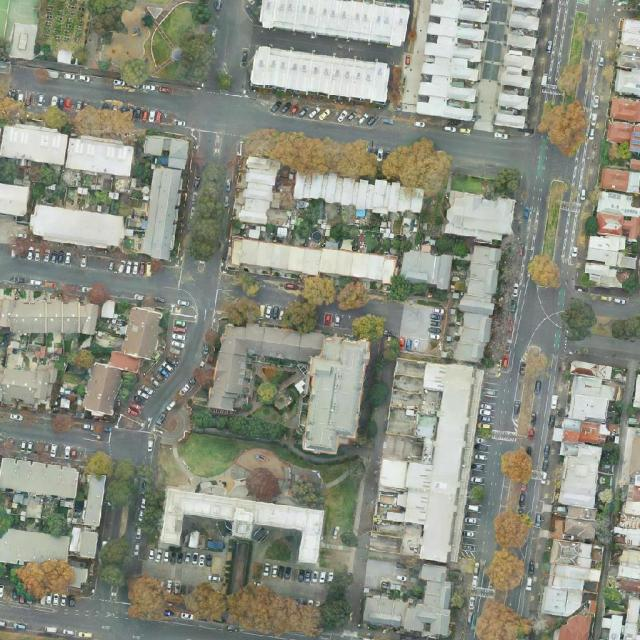building: (368, 355, 485, 565), (203, 316, 373, 460), (159, 486, 326, 566), (546, 373, 617, 541), (0, 457, 106, 567), (415, 0, 490, 123), (600, 427, 640, 639), (249, 44, 392, 103), (229, 236, 397, 285), (0, 121, 136, 180), (259, 0, 411, 48), (135, 135, 190, 261), (539, 526, 608, 623), (292, 169, 424, 218), (451, 243, 503, 365), (494, 0, 542, 130), (0, 288, 116, 341), (27, 204, 127, 250), (109, 302, 169, 377), (443, 191, 515, 245), (237, 155, 281, 228), (396, 299, 447, 357), (79, 361, 125, 421), (400, 248, 454, 290), (0, 184, 30, 216)
greenland: (242, 109, 455, 198), (125, 571, 323, 640), (81, 439, 151, 514), (529, 87, 601, 159), (184, 160, 233, 263), (481, 506, 534, 600), (354, 353, 397, 449), (220, 294, 317, 333), (189, 408, 290, 443), (10, 554, 78, 603), (561, 299, 640, 340), (300, 274, 372, 313), (176, 27, 216, 84), (73, 104, 135, 140), (460, 168, 521, 198), (100, 538, 130, 599), (136, 481, 166, 541), (321, 572, 352, 629), (37, 103, 78, 137), (553, 58, 587, 99), (0, 96, 38, 128), (351, 312, 387, 341), (502, 450, 531, 484), (119, 57, 148, 87), (252, 379, 280, 408), (68, 347, 96, 371), (604, 141, 632, 161), (192, 2, 212, 24)
metalled_road: (444, 139, 607, 597), (3, 64, 536, 203), (101, 347, 200, 475), (166, 272, 215, 368), (209, 0, 255, 95), (532, 137, 578, 196), (253, 274, 301, 319), (581, 38, 607, 109), (357, 297, 403, 334), (491, 580, 537, 617), (316, 303, 360, 334), (460, 591, 489, 627), (586, 0, 614, 32), (76, 428, 103, 454)
